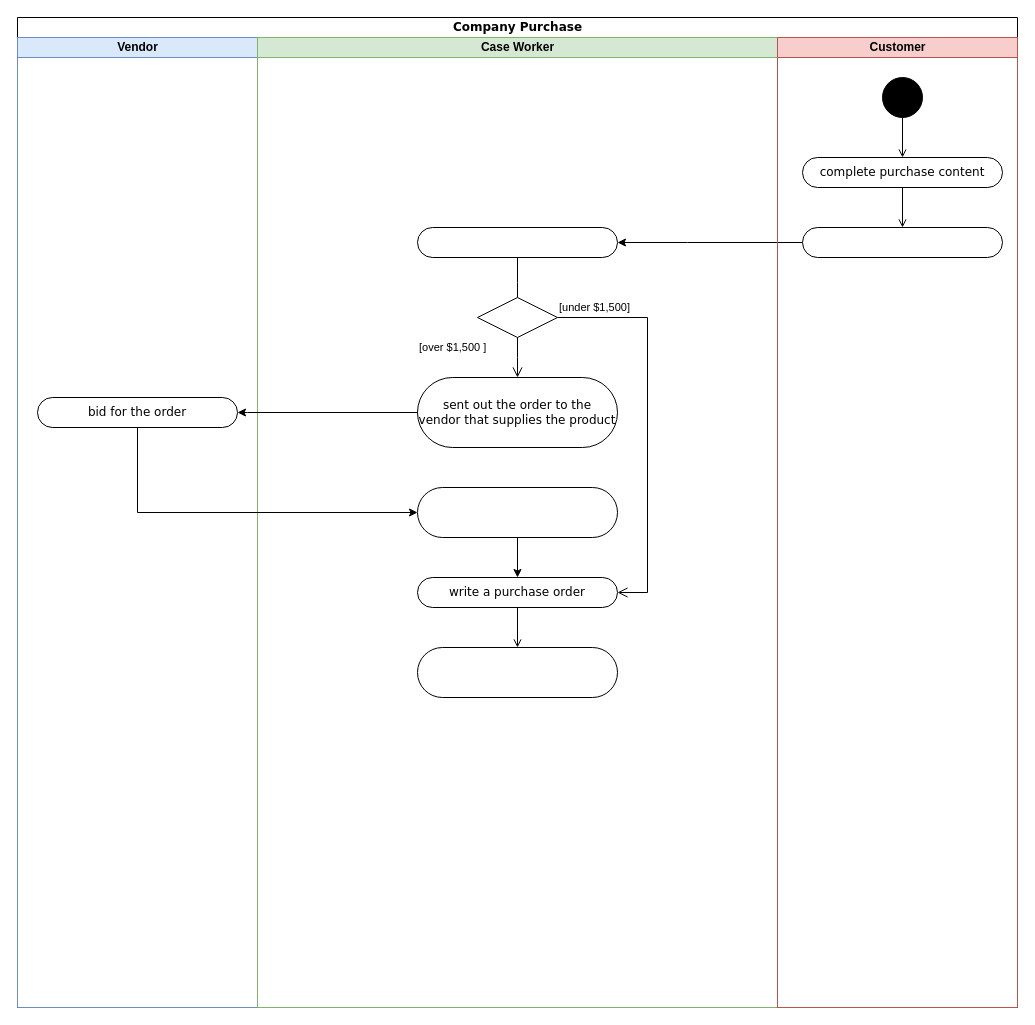
Image size: 1035x1025. Some labels were removed from this diagram. The centre of each missing label's shape, as x and y in pixels:
Initiate a purchase request: the point at 902,242
receive a purchase request: the point at 517,242
select one bid: the point at 517,512
send the order to the approved vendor: the point at 517,672
